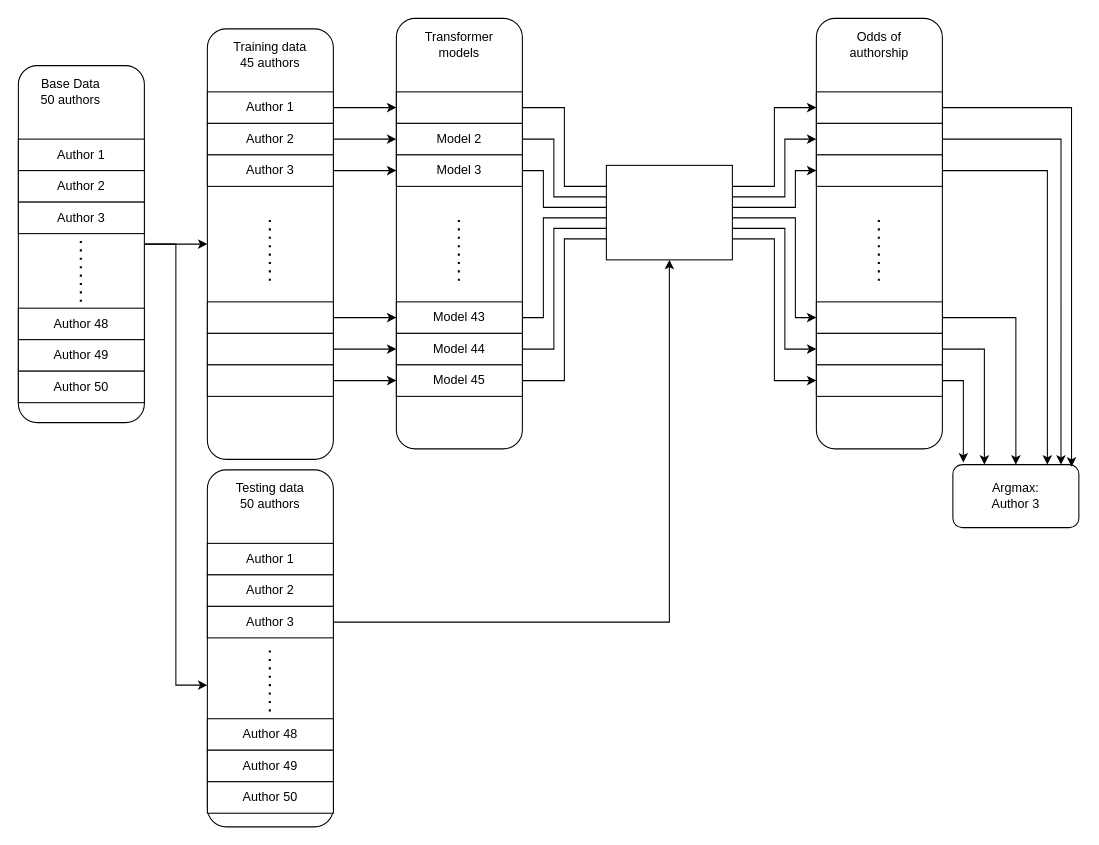
This 1099x845 diagram has some shape labels left out. The centre of each missing label's shape, as x and y in pixels:
Author 43: point 269,317
Author 44: point 269,348
Author 45: point 269,380
Model 1: point 458,107
Odds 1: point 878,107
Odds 2: point 878,138
Odds 3: point 878,170
Odds 43: point 878,317
Odds 44: point 878,348
Odds 45: point 878,380
Test data: point 668,212
